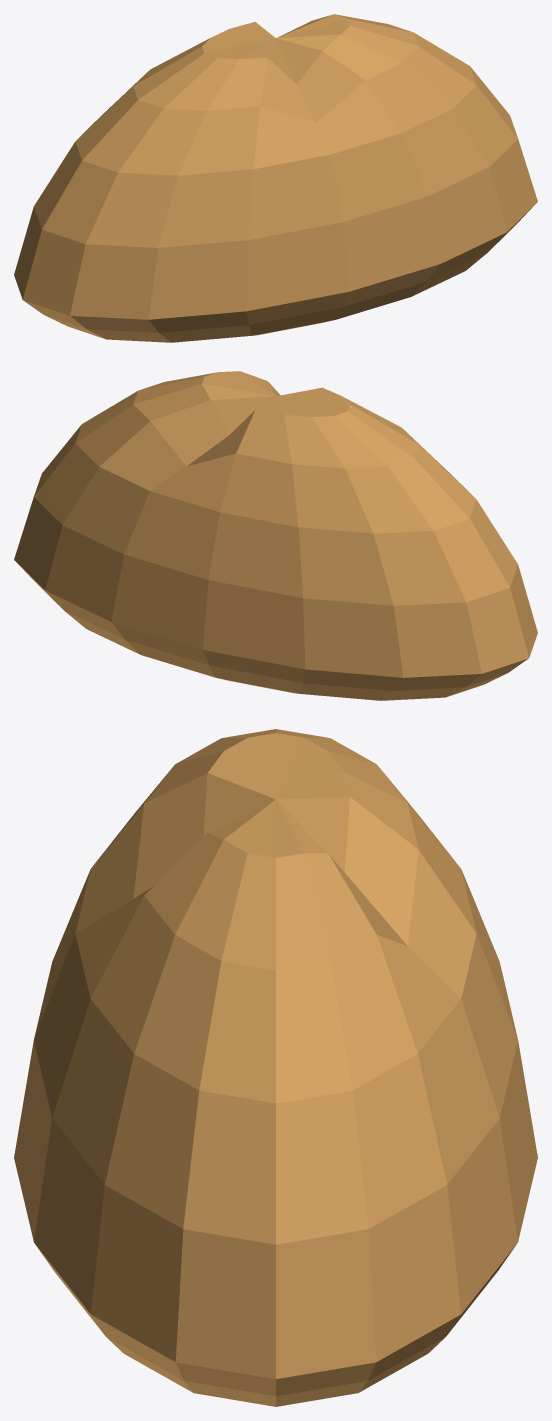
File: bread_loaf_whole.glb
3 renders of one model, top to bottom at view 1: azimuth 30°, elevation 25°; view 2: azimuth 150°, elevation 25°; view 3: azimuth 270°, elevation 25°, orthographic. The views are drawn at different scales.
Visible parts, largest first — view 1: bread_loaf_whole_0; view 2: bread_loaf_whole_0; view 3: bread_loaf_whole_0.
Boxes of the visible parts, bbox=[...] form: bread_loaf_whole_0: bbox=[14, 14, 537, 342]; bread_loaf_whole_0: bbox=[14, 371, 537, 700]; bread_loaf_whole_0: bbox=[14, 729, 537, 1406].
Size of the model in its own units: 0.374 by 0.1827 by 0.187.
